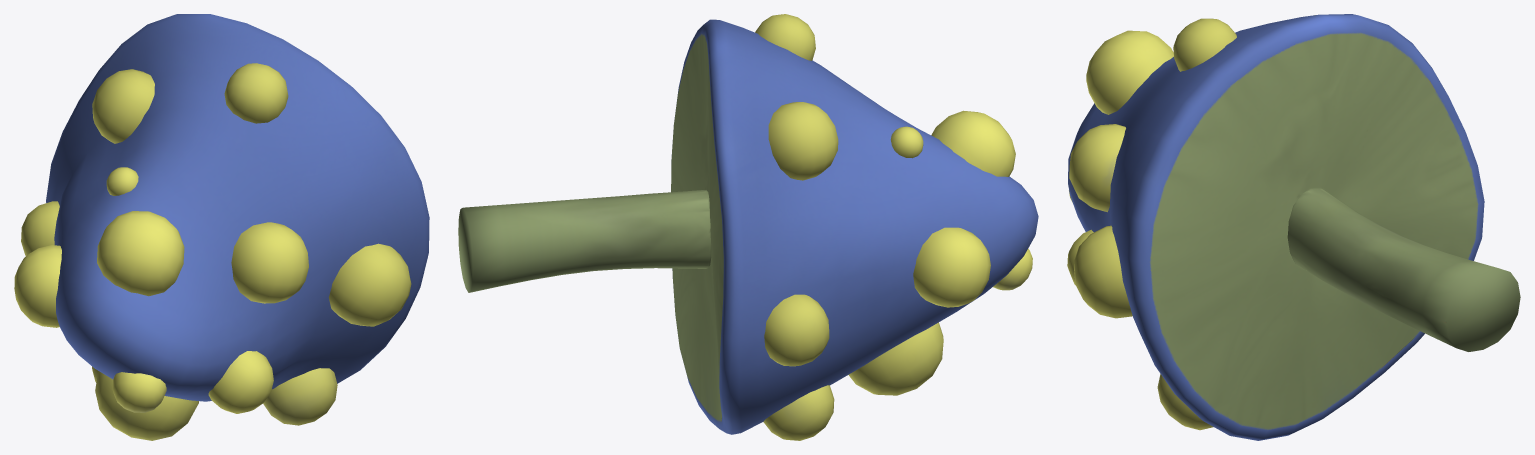
The model's file is Estranho.fbx.
3 views of the same model, side by side, from view 1: azimuth 30°, elevation 25°; view 2: azimuth 150°, elevation 25°; view 3: azimuth 270°, elevation 25° (orthographic). The views are drawn at different scales.
Visible parts, largest first — view 1: CogumeloEstranho; view 2: CogumeloEstranho; view 3: CogumeloEstranho.
Part boxes in pixels (x1=…): CogumeloEstranho: x1=14, y1=14, x2=429, y2=440; CogumeloEstranho: x1=458, y1=14, x2=1038, y2=440; CogumeloEstranho: x1=1067, y1=14, x2=1520, y2=440.
Size of the model in its own units: 194 by 164 by 167.
